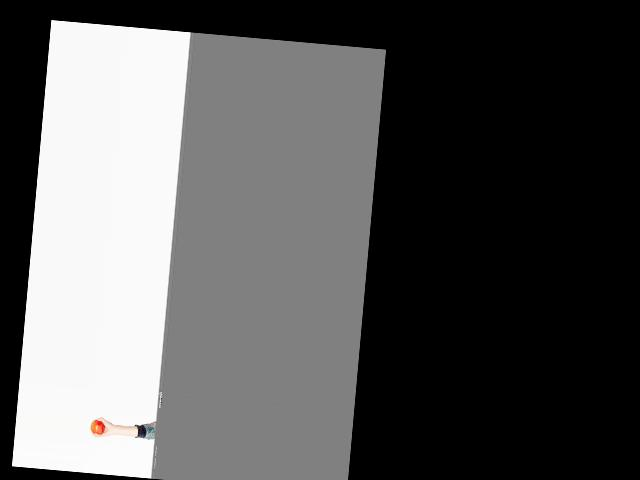tomato: (89, 419, 105, 435)
